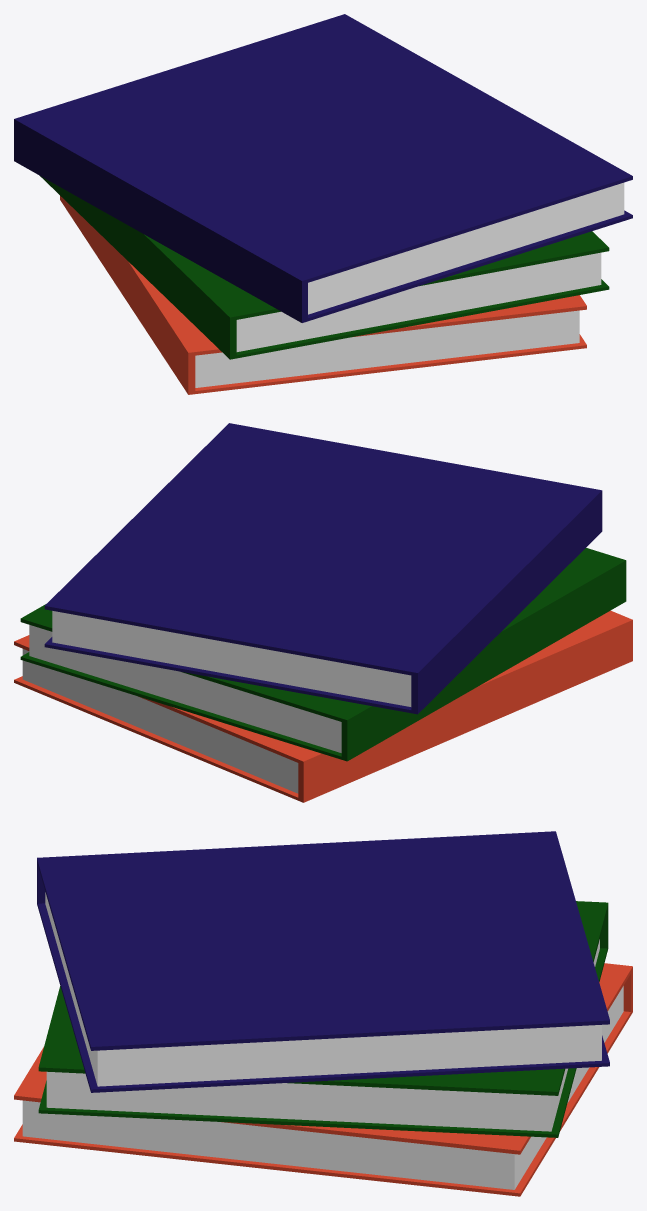
File: Libros.fbx
3 renders of one model, top to bottom at view 1: azimuth 30°, elevation 25°; view 2: azimuth 150°, elevation 25°; view 3: azimuth 270°, elevation 25°, orthographic. The views are drawn at different scales.
Parts seen in each view (by area): view 1: Cube.003, Cube.002, Cube.001; view 2: Cube.003, Cube.001, Cube.002; view 3: Cube.003, Cube.002, Cube.001.
Part boxes in pixels (x1=…): Cube.003: x1=14, y1=14, x2=632, y2=322; Cube.002: x1=39, y1=175, x2=609, y2=359; Cube.001: x1=60, y1=196, x2=586, y2=394; Cube.003: x1=44, y1=423, x2=602, y2=714; Cube.001: x1=14, y1=610, x2=632, y2=802; Cube.002: x1=20, y1=548, x2=626, y2=761; Cube.003: x1=37, y1=831, x2=609, y2=1092; Cube.002: x1=38, y1=901, x2=608, y2=1137; Cube.001: x1=14, y1=963, x2=632, y2=1196.
Bounding box in the file's own units: 411 × 110 × 448.
